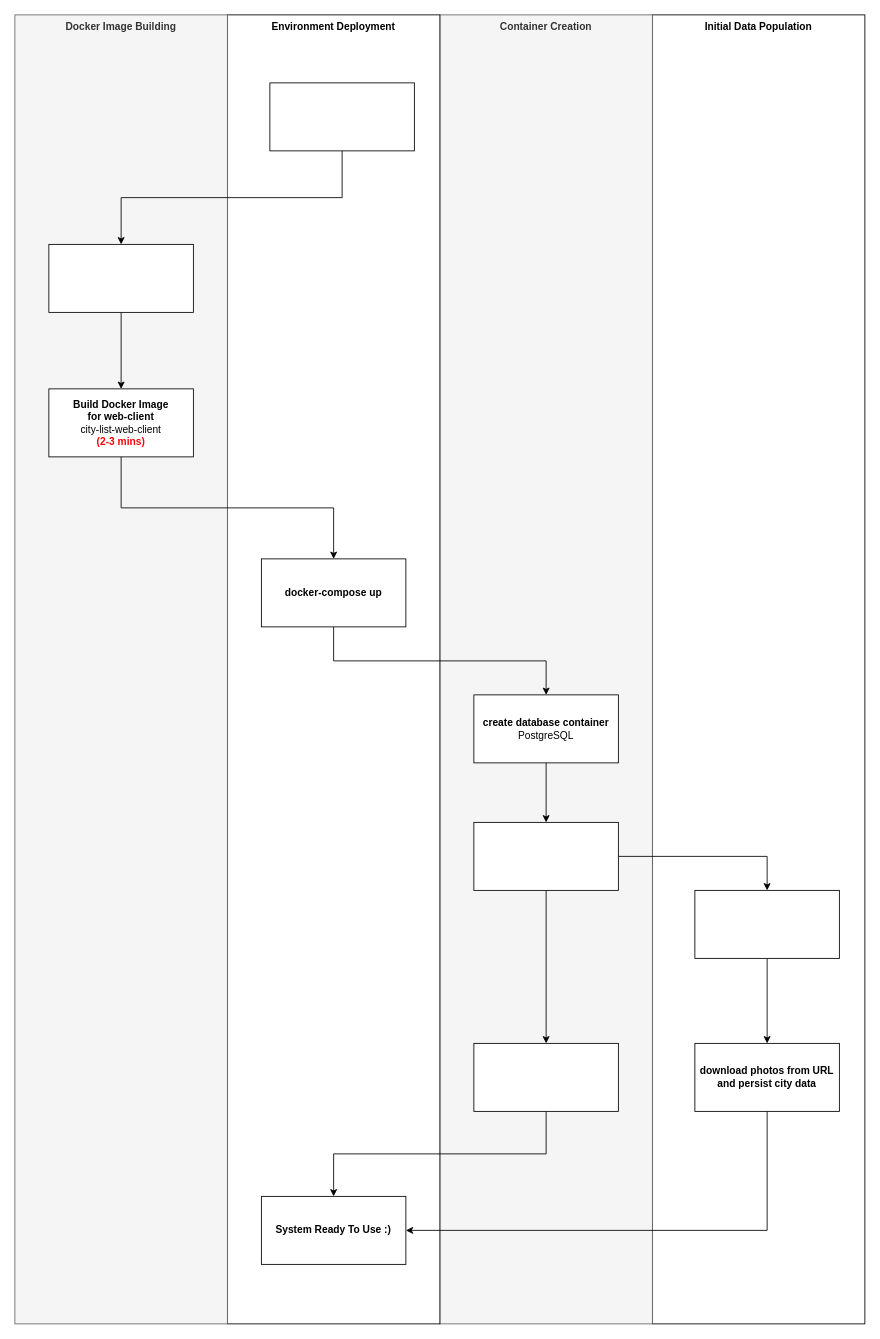
Image size: 880x1339. Some labels were removed from this diagram. The shapes that lost their labels are listed below. From the top down, each one's centre as x and y in pixels, then its label:
At point (341, 116): "docker-compose build".
At point (120, 278): "Build Docker Image for api city-list-rest".
At point (545, 856): "create api container city-list-rest".
At point (766, 924): "parse data from CSV and populate initial data (5-6 mins)".
At point (545, 1077): "create web-client container city-list-web-client".
